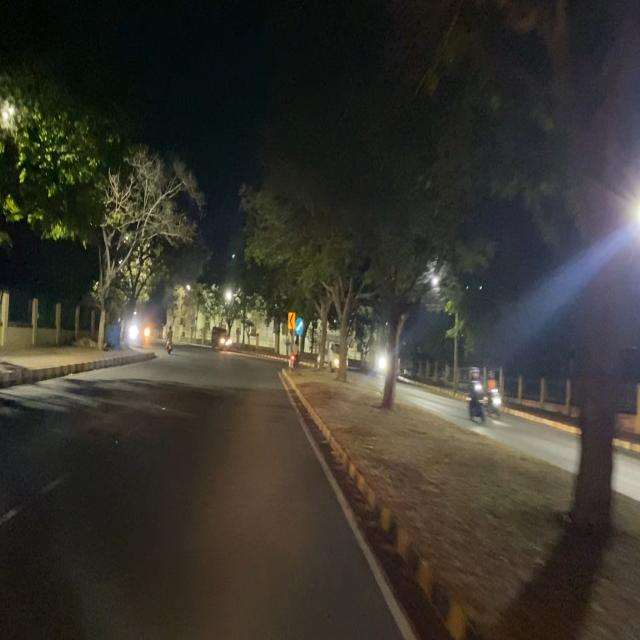bien_cam: (294, 316, 305, 337)
